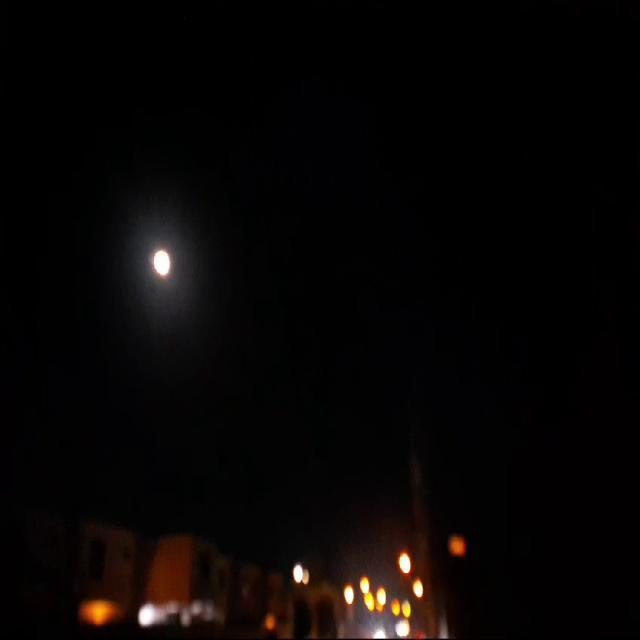moon: (142, 228, 163, 264)
